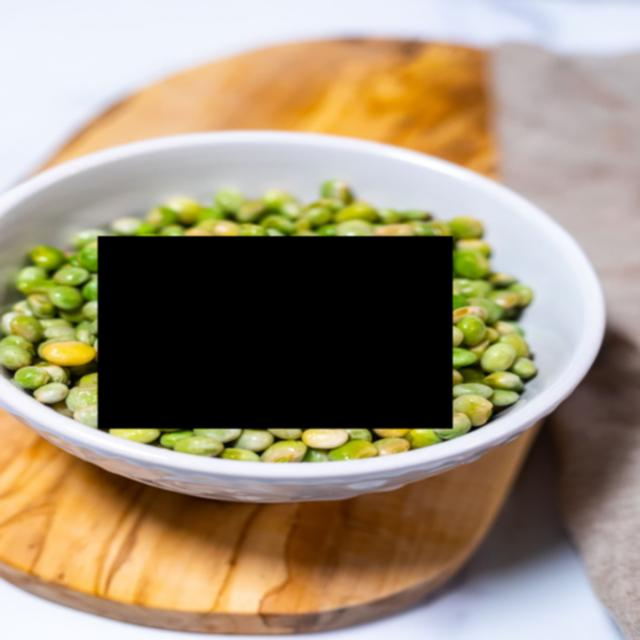Rahar_ko_Daal: (98, 236, 453, 429)
